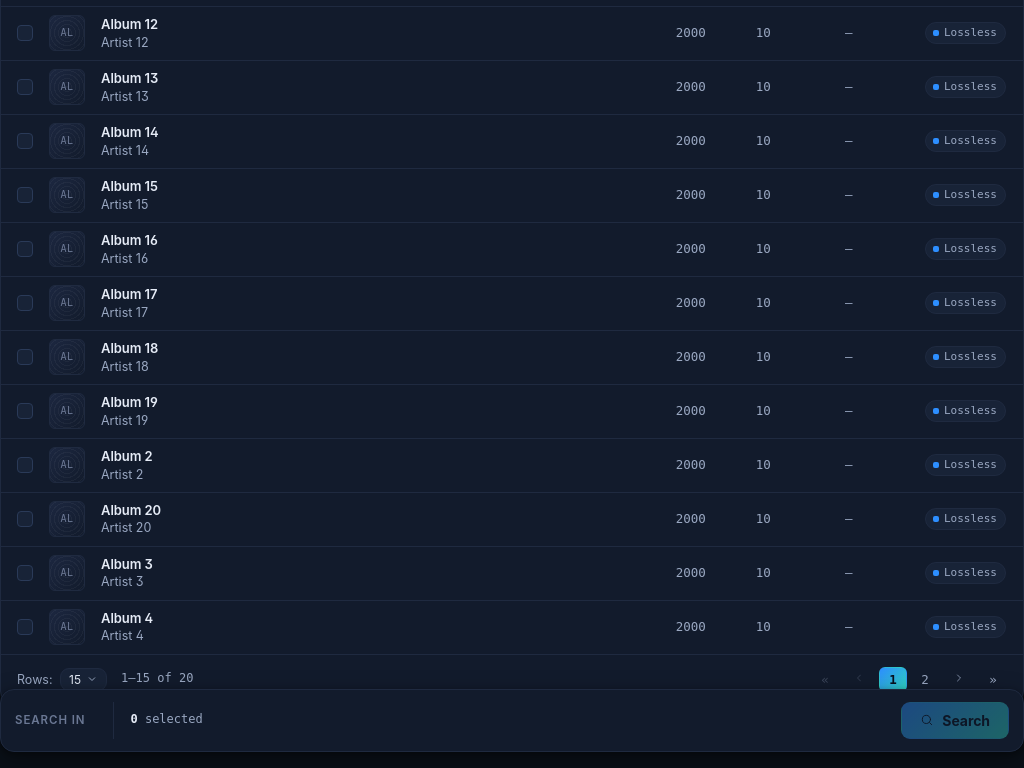
Test: SelectStep — library filter › changing the library filter resets pagination to page 1
The width and height of the screenshot is (1024, 768).
(page scrolled)
Navigate to page 2 using the "»" (last page) button
Click the button "»" at [993, 679], box [979,666,1007,692]
(page scrolled)
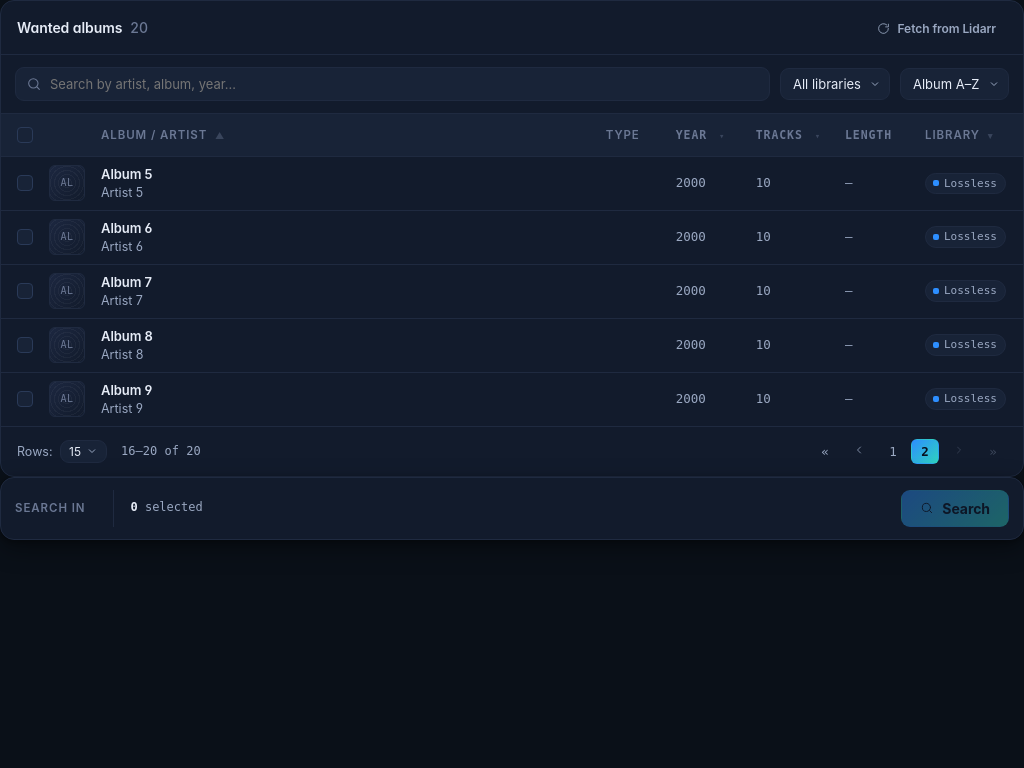
Result: the button "«" is enabled at [811,439,839,464]
Select "Lossless" in the 1st dropdown with class "filter-select" at [835, 84], box [780,68,890,100]
(page scrolled)
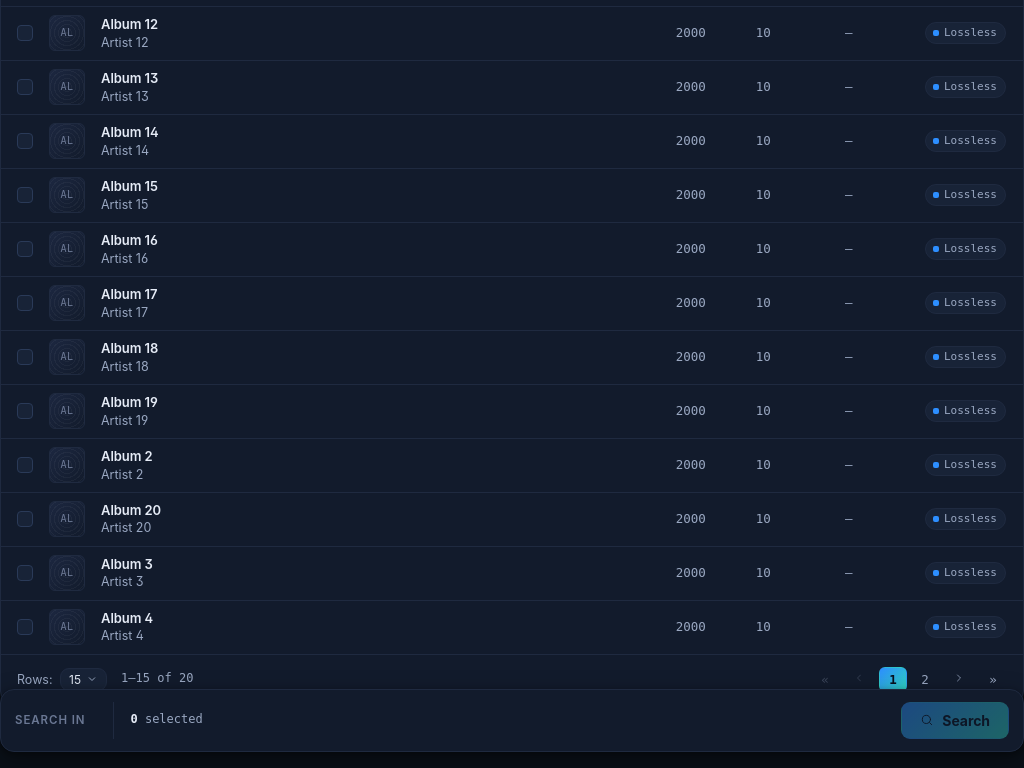
Result: the button "«" is disabled at [811,666,839,692]
